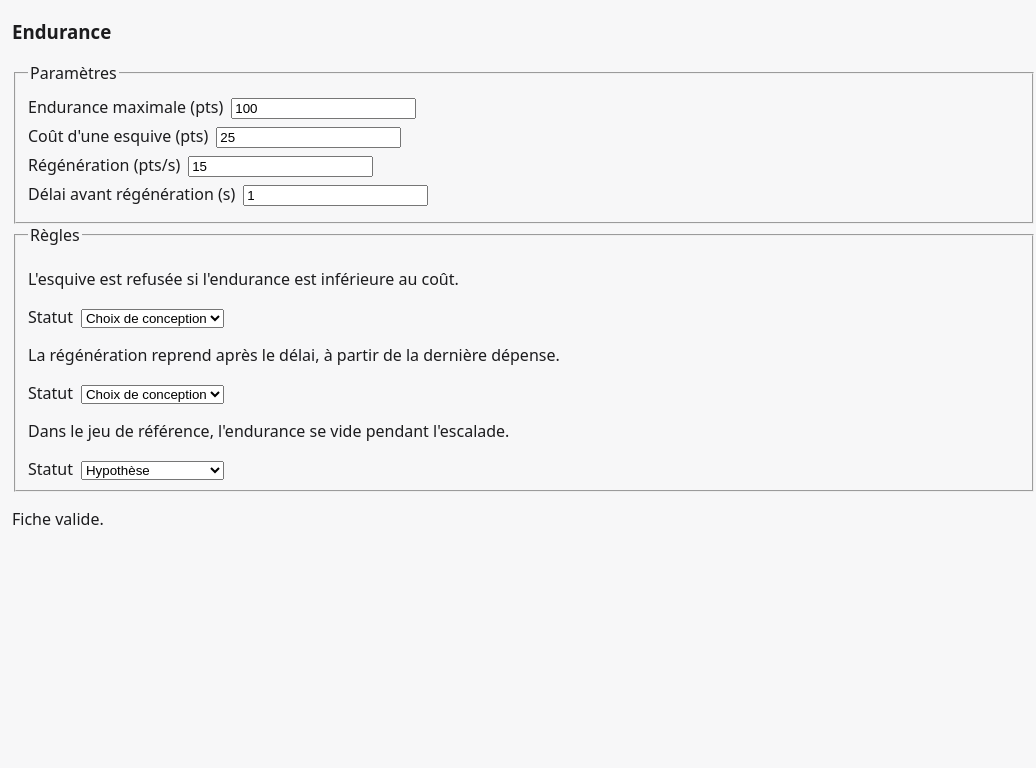
Test case: éditeur de fiche › signale une valeur hors bornes
Replace the text in the number field labelled "Coût d'une esquive (pts)" with "500" at coordinates (309, 138), box [216,127,401,148]
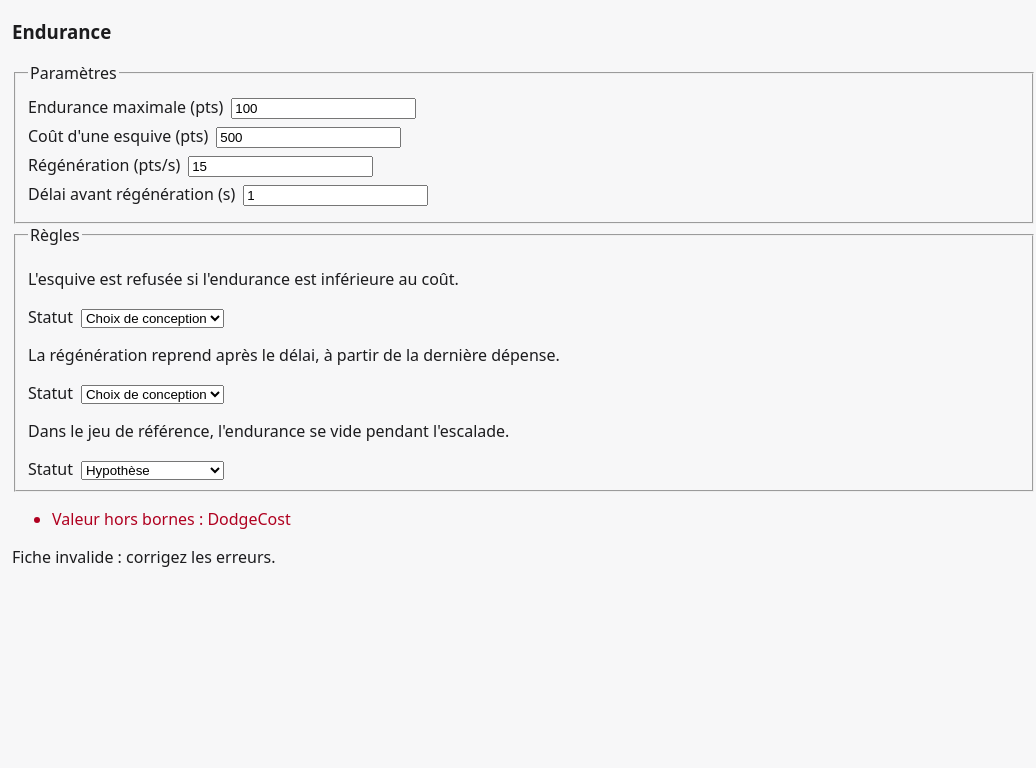
Now the message shows "DodgeCost", box [52,508,291,530]
Now the text "Fiche invalide : corrigez les erreurs." is shown, box [12,546,276,568]
